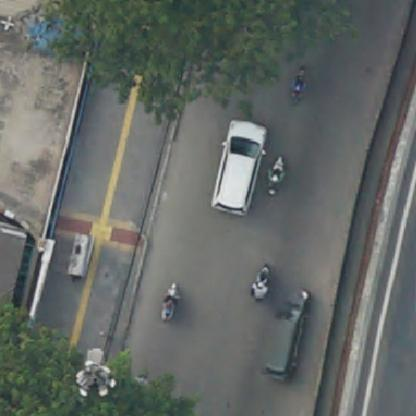Car: (214, 122, 264, 218), (264, 292, 312, 382)
Motorcycle: (264, 156, 292, 195), (155, 283, 184, 320), (249, 264, 272, 302), (290, 68, 309, 103)
